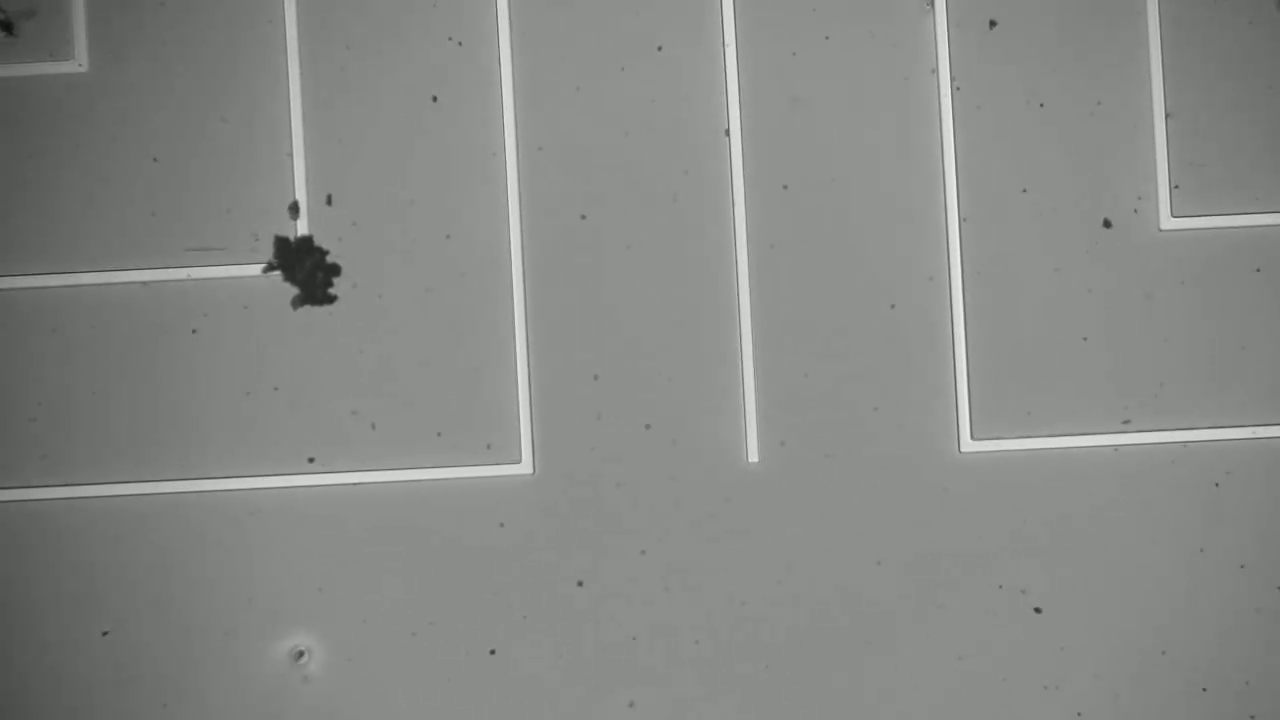stains_enbedded: (251, 208, 360, 319)
